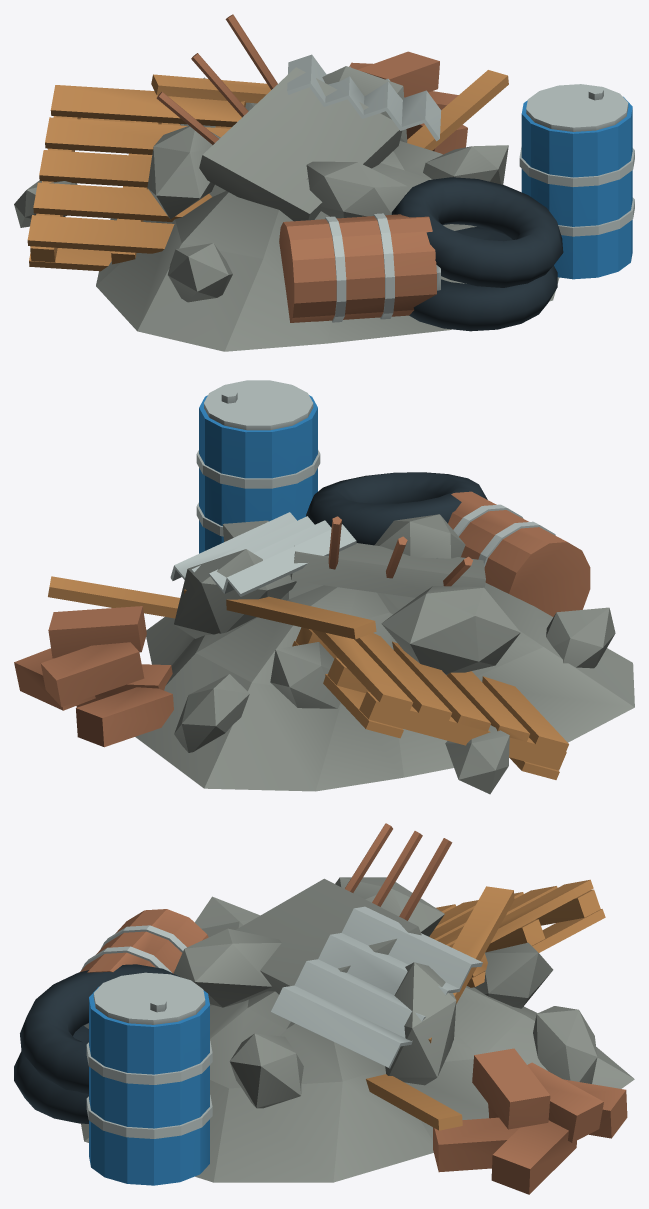
The model's file is industrial-waste.glb.
3 views of the same model, one above another, from view 1: azimuth 30°, elevation 25°; view 2: azimuth 150°, elevation 25°; view 3: azimuth 270°, elevation 25° (orthographic). The views are drawn at different scales.
Visible parts, largest first — view 1: rubble mound, pallet deck board, bent rebar, discarded tyre, drum rolling hoop, steel drum; view 2: rubble mound, bent rebar, pallet deck board, drum rolling hoop, steel drum, discarded tyre; view 3: rubble mound, drum rolling hoop, bent rebar, steel drum, pallet deck board, discarded tyre.
Boxes of the visible parts, x1,y1,x2,y2 form: rubble mound: (14,66,559,351); pallet deck board: (27,70,508,271); bent rebar: (156,14,467,322); discarded tyre: (391,177,563,331); drum rolling hoop: (287,54,634,322); steel drum: (521,96,632,279); rubble mound: (135,514,634,794); bent rebar: (14,491,590,747); pallet deck board: (48,576,568,779); drum rolling hoop: (170,380,555,596); steel drum: (199,395,317,553); discarded tyre: (306,472,487,545); rubble mound: (81,877,634,1182); drum rolling hoop: (81,906,482,1138); bent rebar: (80,823,627,1194); steel drum: (89,986,209,1185); pallet deck board: (366,879,605,1130); discarded tyre: (14,964,180,1123).
Size of the model in its own units: 1.05 by 0.4204 by 1.06.
